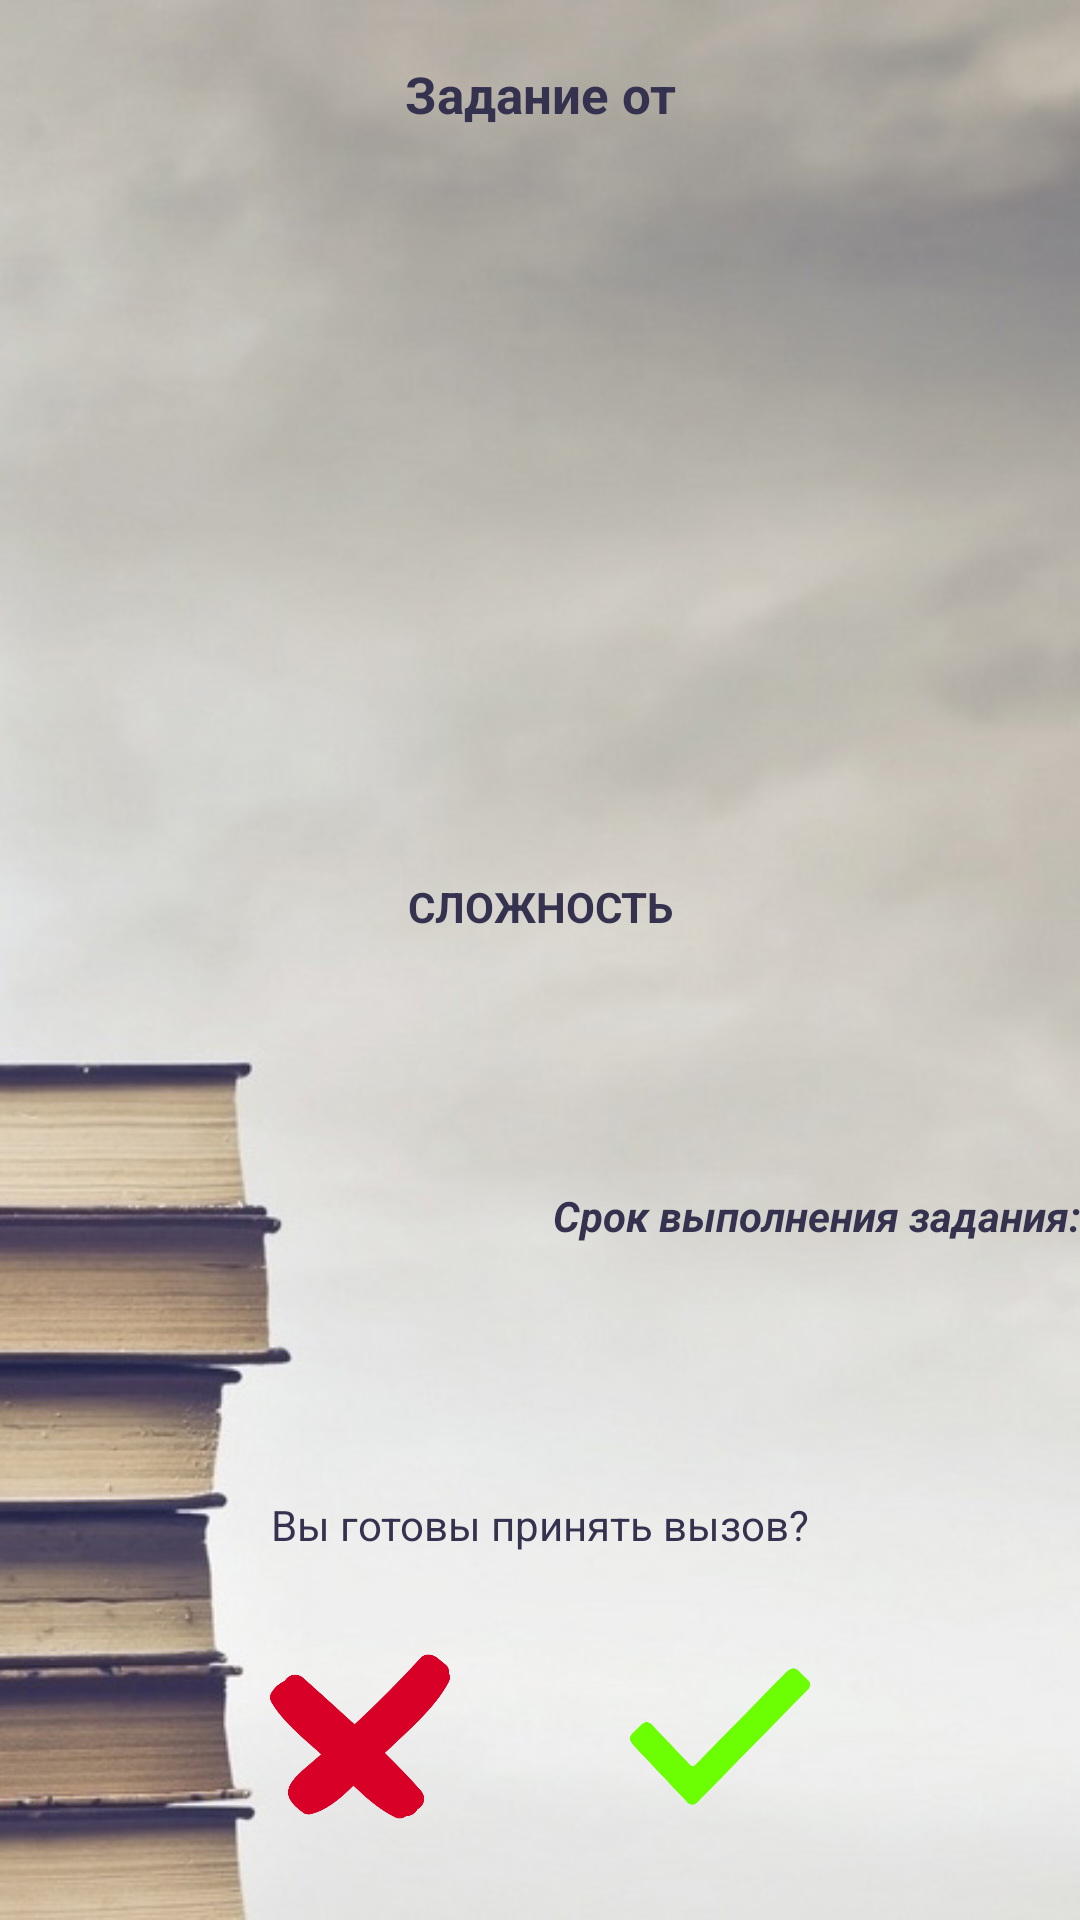

Where to tap for icons on this 1080*1920 app screen, as (x,y):
checked: (720,1736)
cross: (360,1736)
